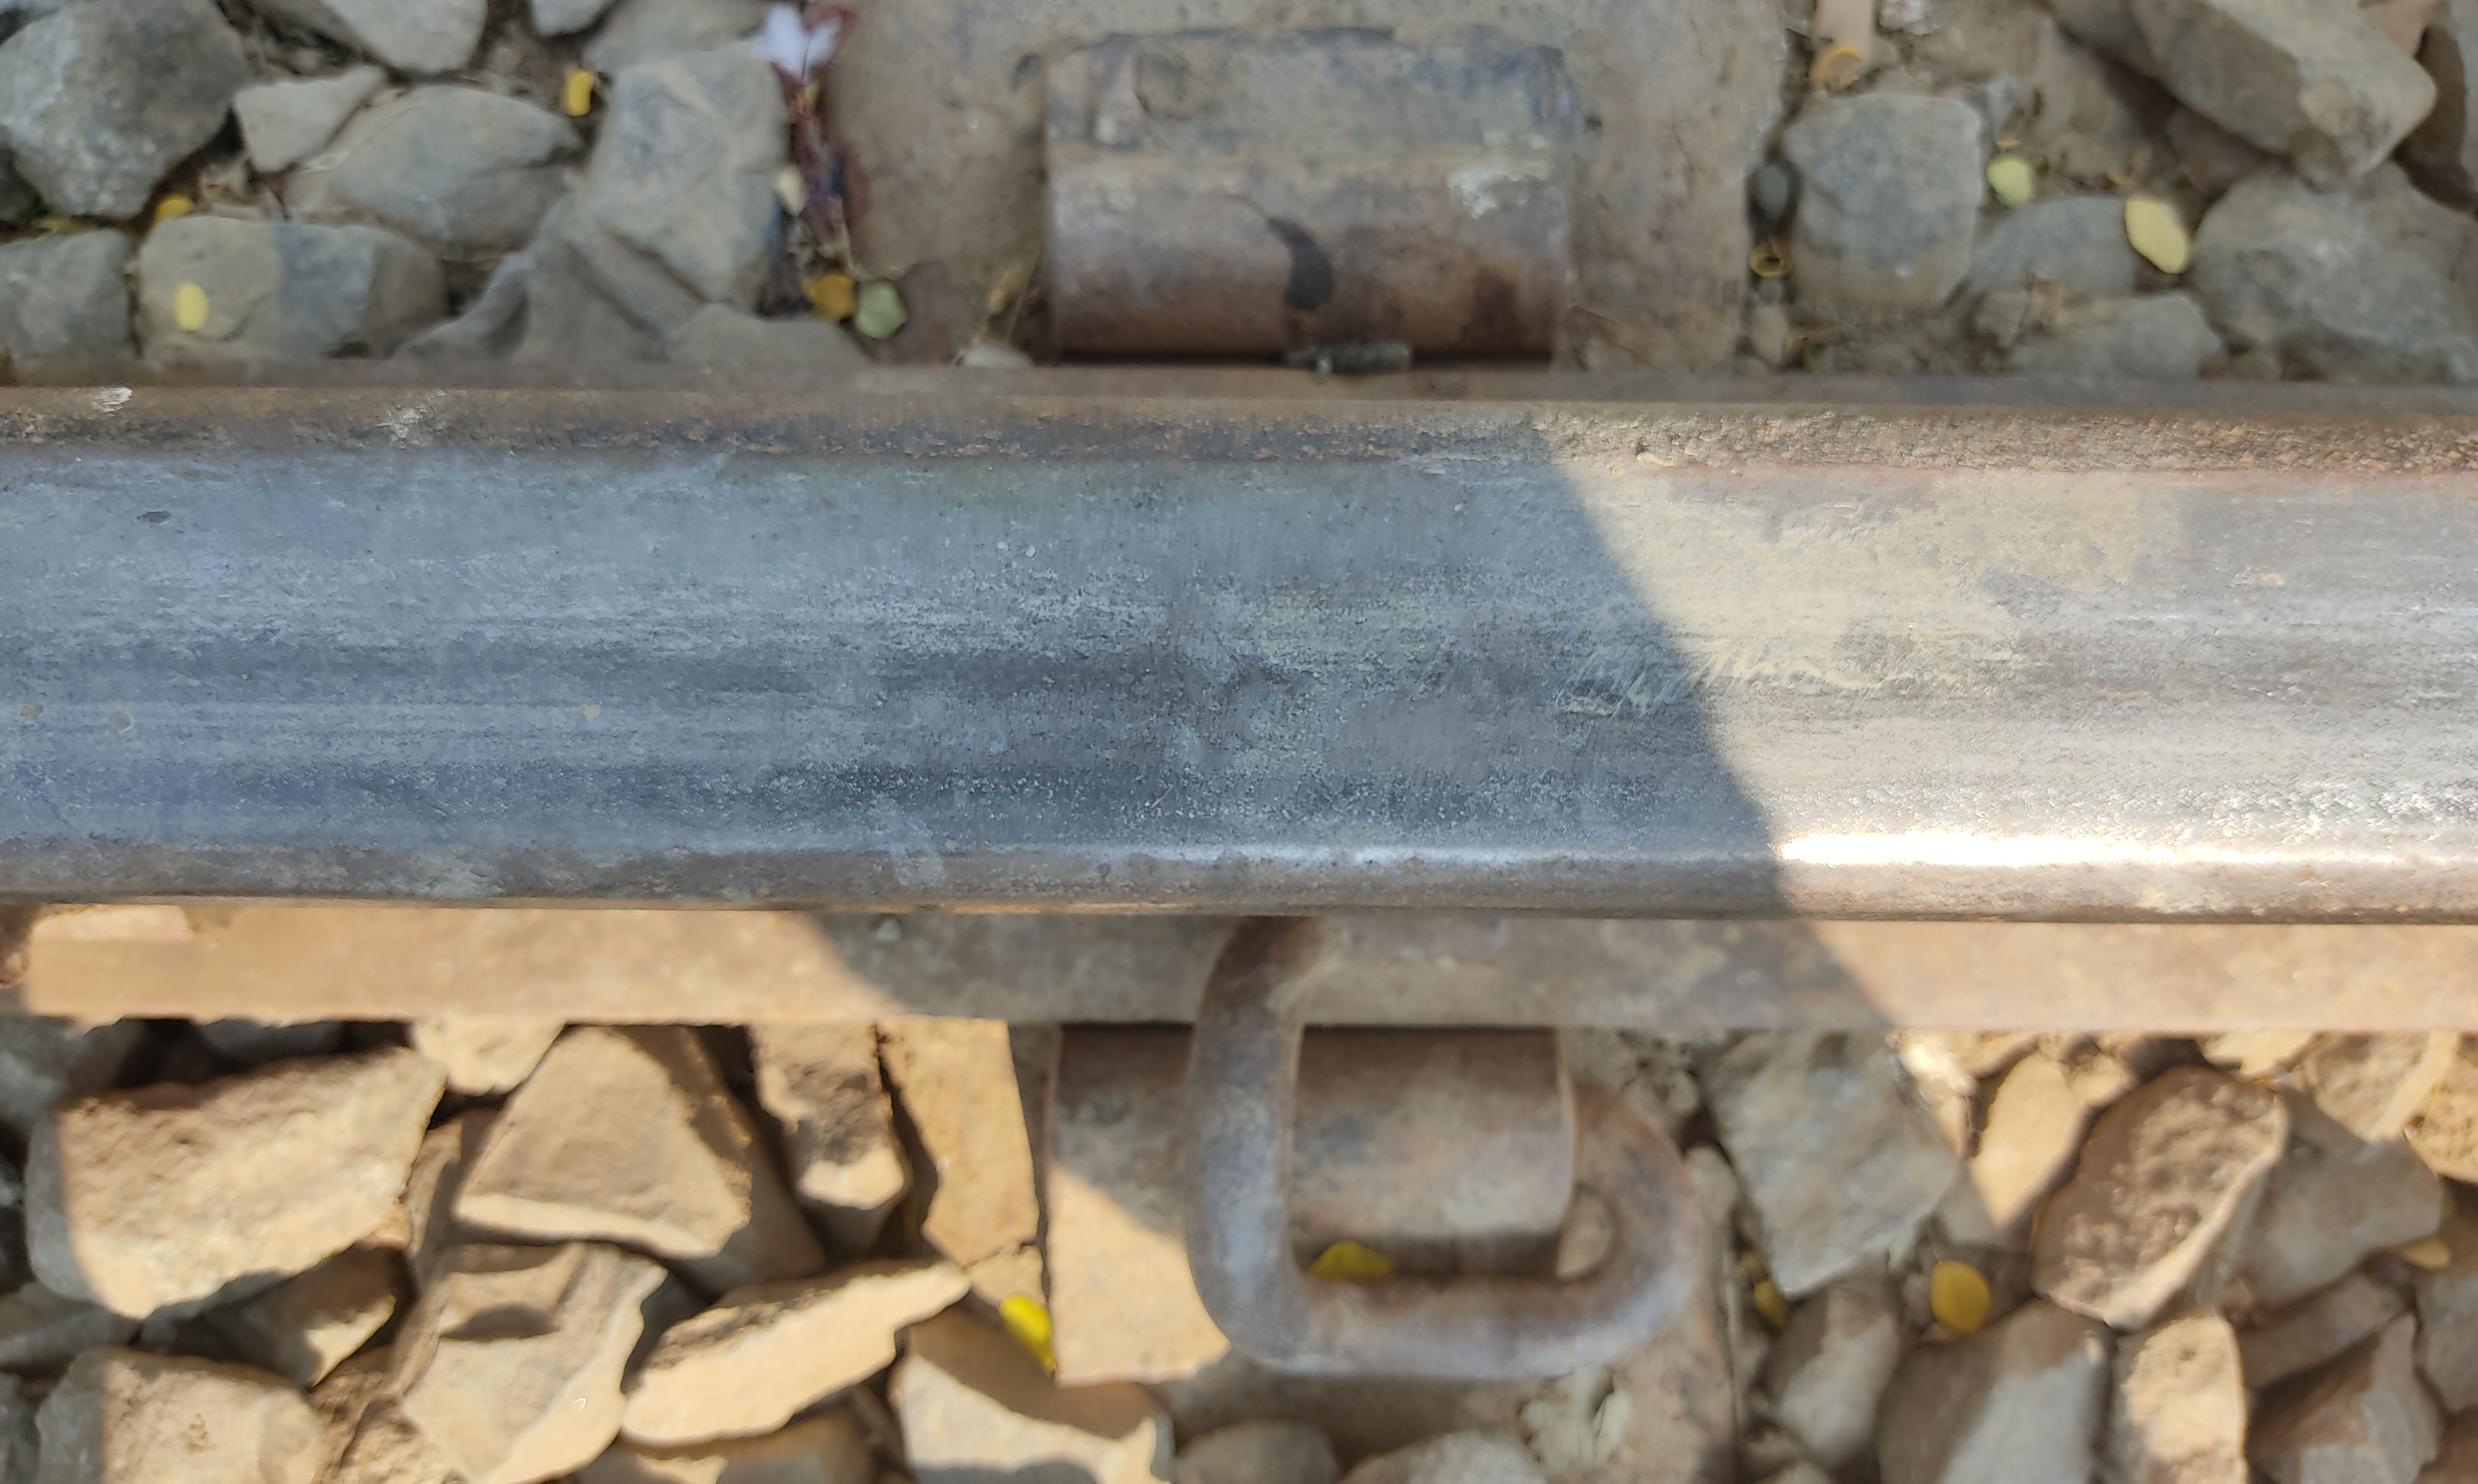error1: (1012, 853, 1821, 1484), (980, 19, 1604, 371)
